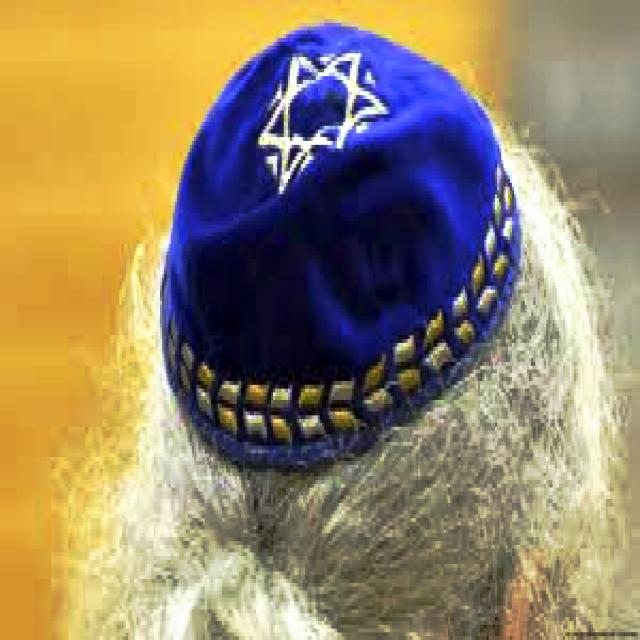TOPI: (151, 8, 525, 468)
